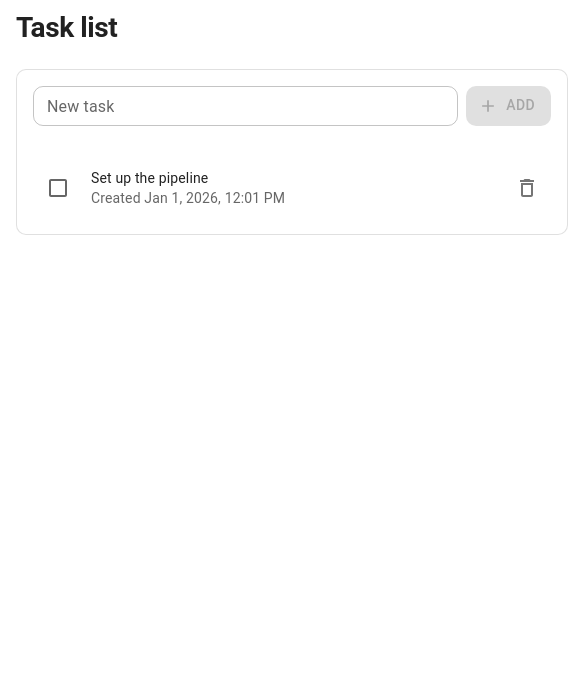
Test: App › once loaded › deletes a task
What coordinates should you click on to do the following:
click the button named "Delete Set up the pipeline"
I would click on:
 (527, 188)
Its box is x1=507 y1=168 x2=547 y2=208.
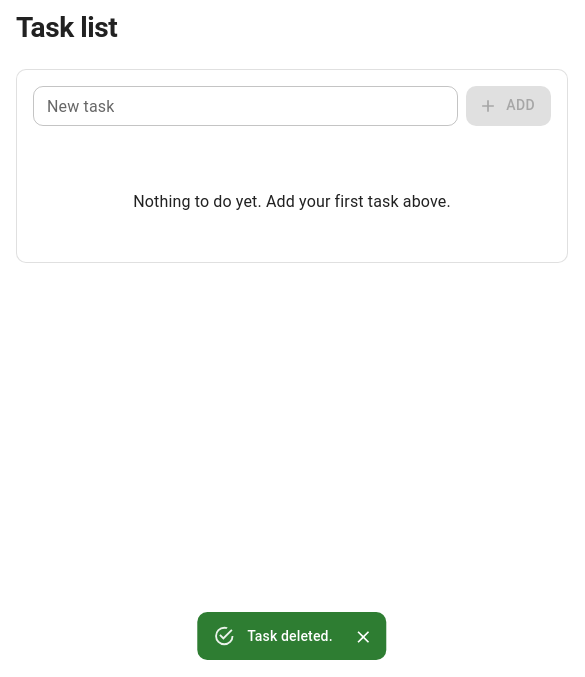
Result: the text "Nothing to do yet. Add your first task above." is shown at x1=133 y1=192 x2=451 y2=211
Result: the message with test id "notification" reads "Task deleted." at x1=247 y1=628 x2=333 y2=644
